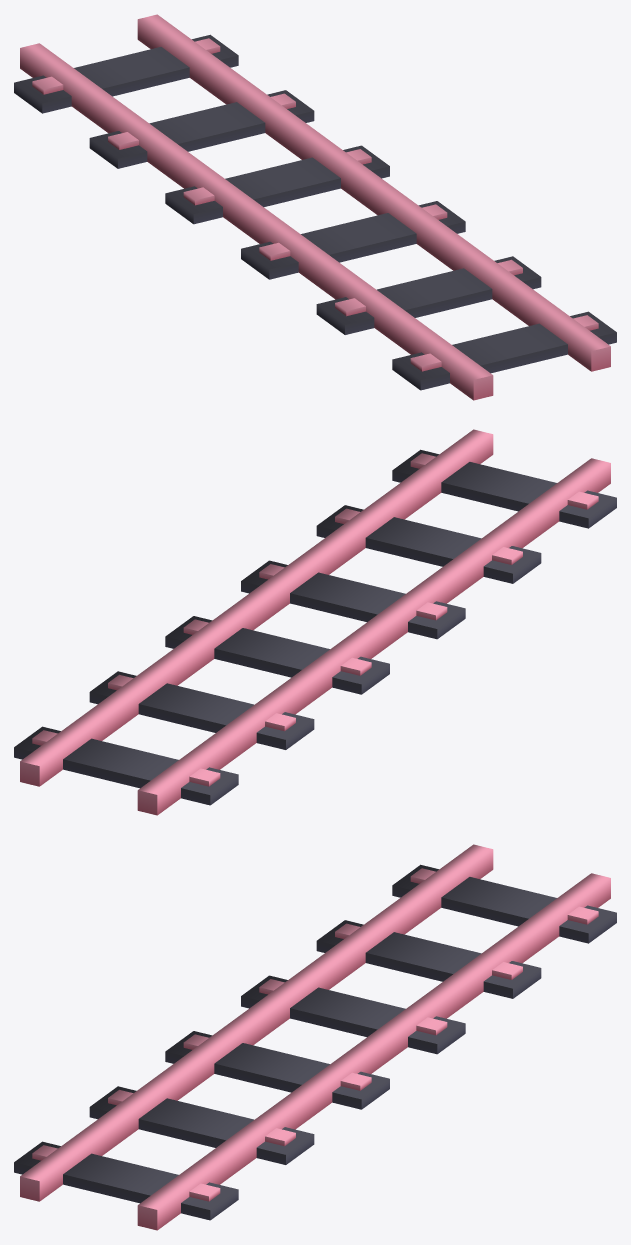
Rendered from tr-rail.glb.
The picture shows the model from 3 angles, top to bottom: view 1: azimuth 30°, elevation 25°; view 2: azimuth 150°, elevation 25°; view 3: azimuth 330°, elevation 25°; orthographic projection.
Parts seen in each view (by area): view 1: railroad-straight; view 2: railroad-straight; view 3: railroad-straight.
Part boxes in pixels (<box>): railroad-straight: <box>14,14,616,400</box>; railroad-straight: <box>14,429,616,815</box>; railroad-straight: <box>14,844,616,1230</box>.
Size of the model in its own units: 1 by 0.1 by 4.
Materials: 1 (1 with a texture image).
